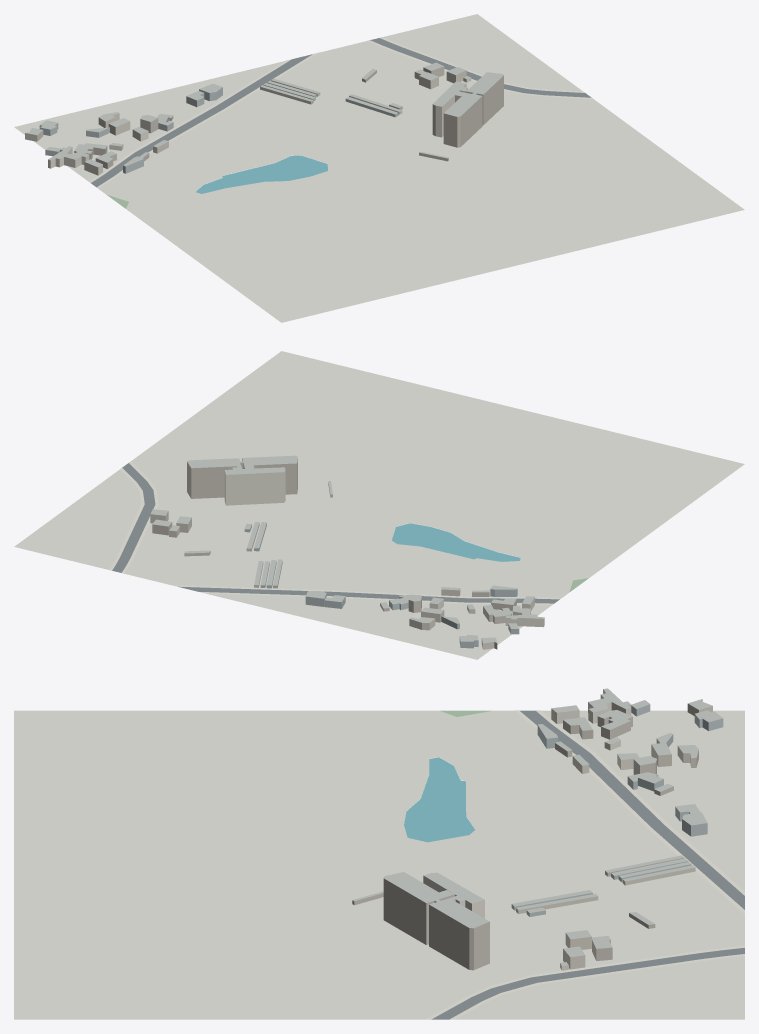
3 views of the same model, one above another, from view 1: azimuth 30°, elevation 25°; view 2: azimuth 150°, elevation 25°; view 3: azimuth 270°, elevation 25° (orthographic). The views are drawn at different scales.
Parts seen in each view (by area): view 1: city; view 2: city; view 3: city.
Part boxes in pixels (x1=…): city: x1=14, y1=14, x2=744, y2=322; city: x1=14, y1=351, x2=744, y2=659; city: x1=14, y1=688, x2=744, y2=1019.
Size of the model in its own units: 518 by 31.88 by 500.
